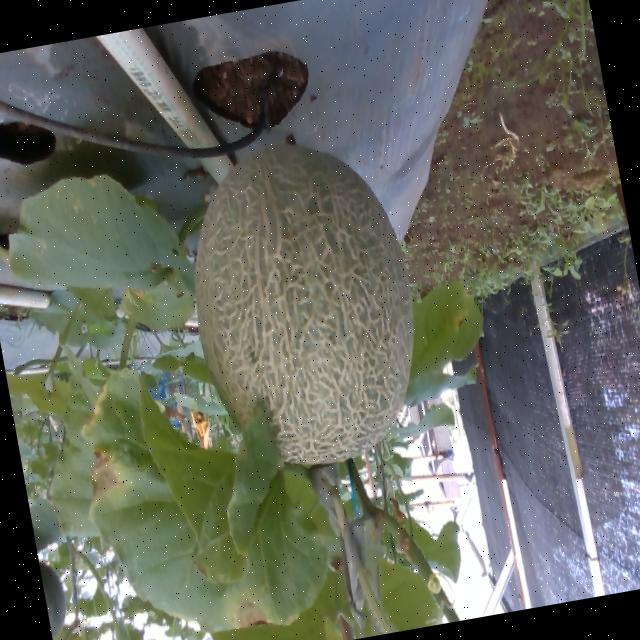melon: (193, 145, 411, 463)
